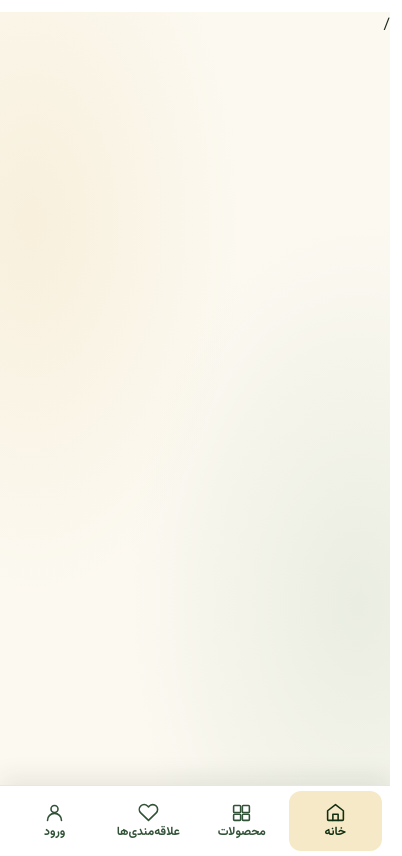
replaces the pharmacy tab with favorites and retains the guest login return destination
Click the link to "/favorites".
click(148, 821)  # box 117,802 -> 180,841
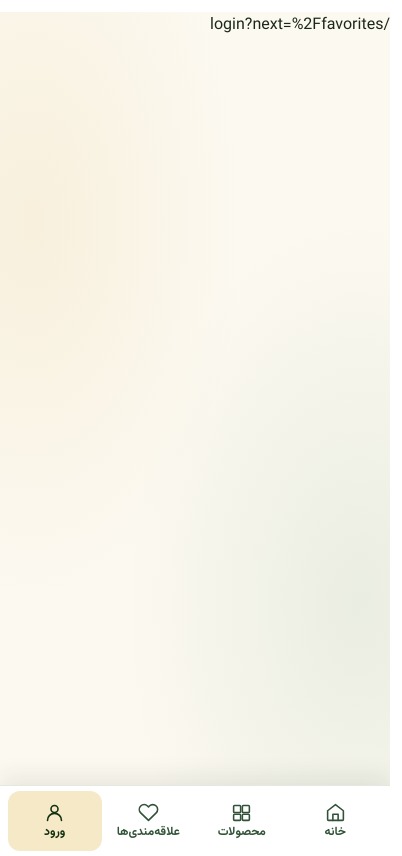
expect the text "/login?next=%2Ffavorites" is shown: met, box 210,13 -> 390,38
